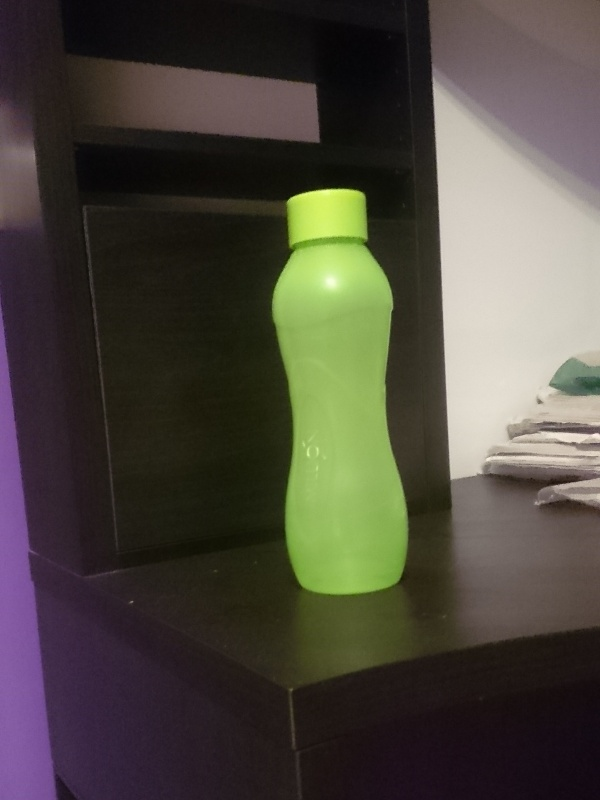my bottle: (270, 189, 407, 596)
